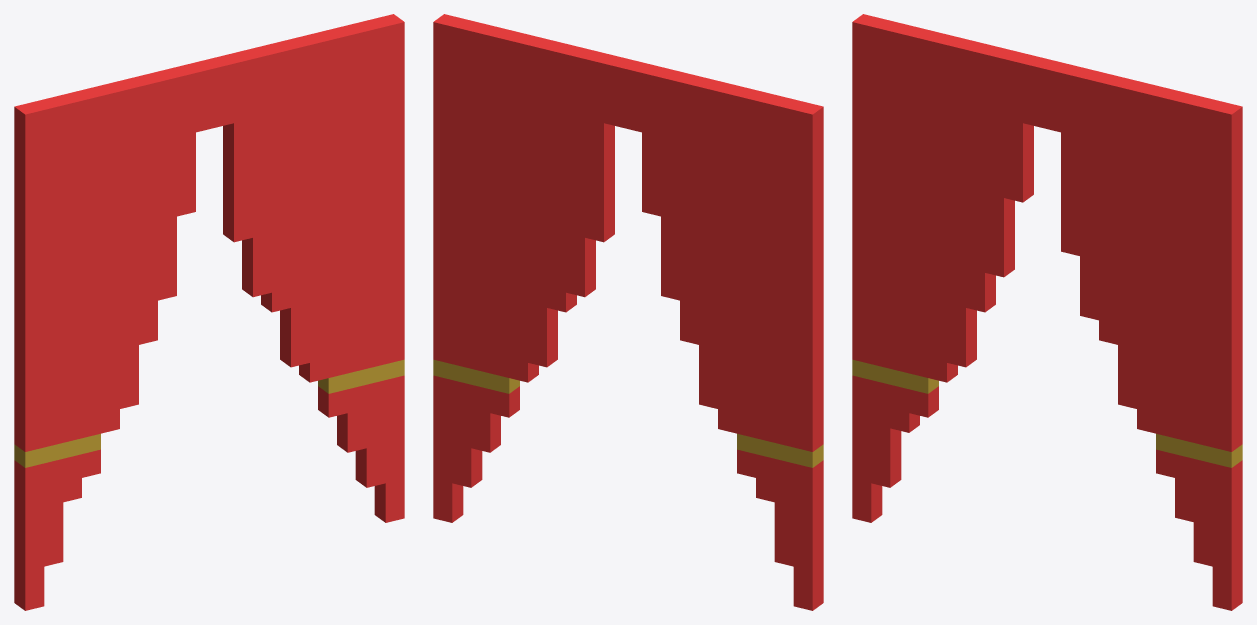
File: Curtain2.fbx
3 renders of one model, left to right at view 1: azimuth 30°, elevation 25°; view 2: azimuth 150°, elevation 25°; view 3: azimuth 330°, elevation 25°, orthographic.
Visible parts, largest first — view 1: block (×66); view 2: block (×66); view 3: block (×66).
Part boxes in pixels (bbox=[...]): block (×66): bbox=[14, 14, 404, 610]; block (×66): bbox=[433, 14, 823, 610]; block (×66): bbox=[852, 14, 1242, 610].
Size of the model in its own units: 18 by 22.5 by 0.9.
